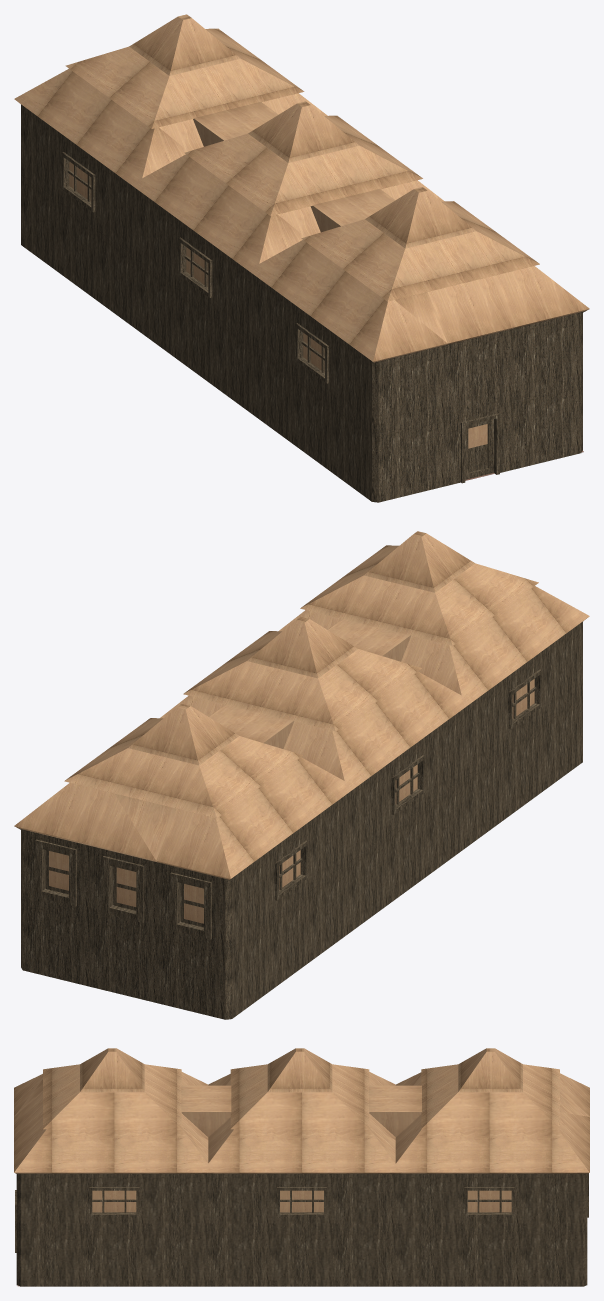
Rendered from House(left).obj.
3 renders of one model, top to bottom at view 1: azimuth 30°, elevation 25°; view 2: azimuth 150°, elevation 25°; view 3: azimuth 270°, elevation 25°, orthographic. The views are drawn at different scales.
Visible parts, largest first — view 1: mergedBlocks; view 2: mergedBlocks; view 3: mergedBlocks.
Part boxes in pixels (<box>): mergedBlocks: <box>14,14,589,502</box>; mergedBlocks: <box>14,531,589,1019</box>; mergedBlocks: <box>14,1048,589,1286</box>.
Bounding box in the file's own units: 3.21 × 3.46 × 9.21.
Materials: 12 (11 with a texture image).
